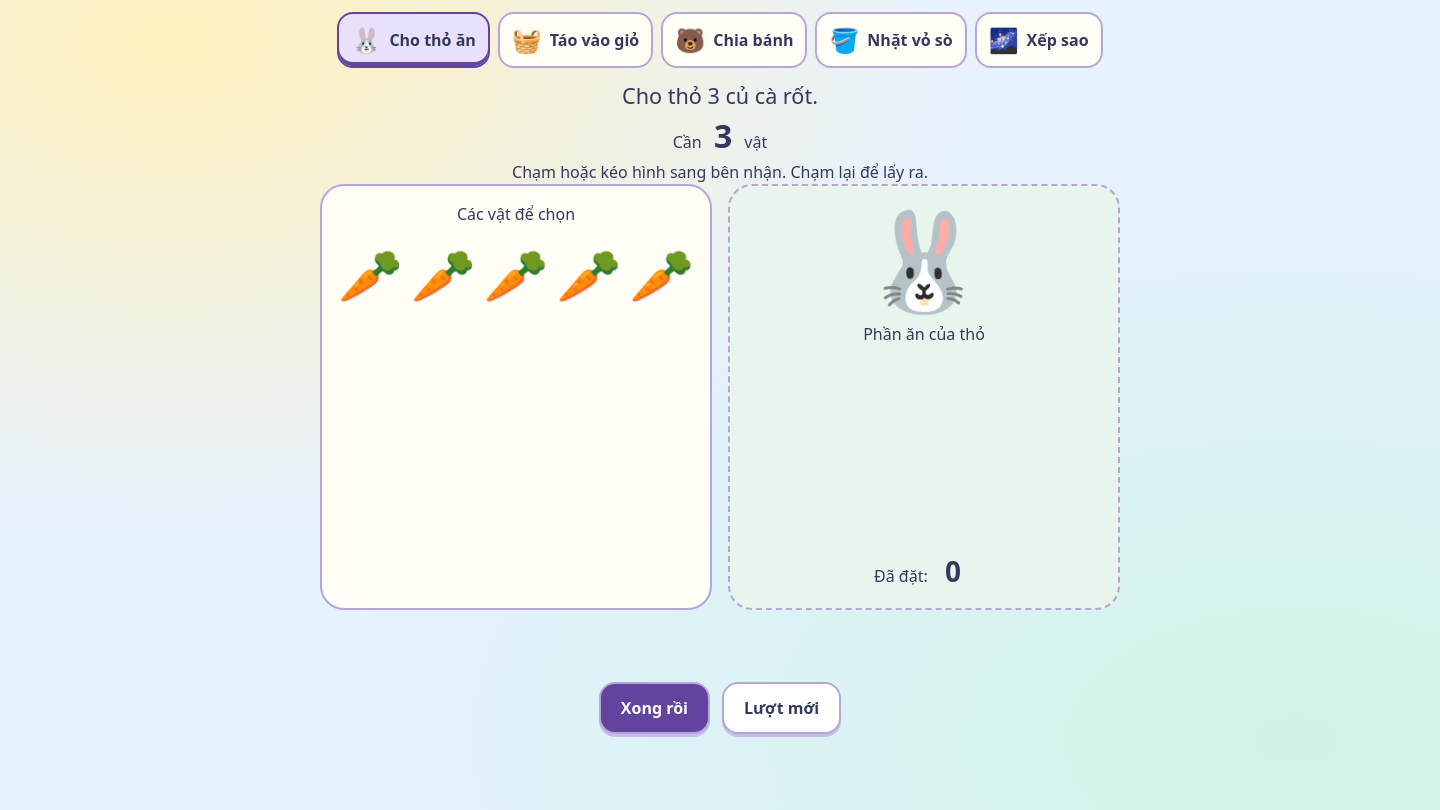
Test: keeps the completed scene until the child chooses to continue
What coordinates should you click on to do the following:
click the button named "Đặt vào: Cà rốt 1"
I would click on:
 (370, 274)
Its box is left=338, top=238, right=403, bottom=310.
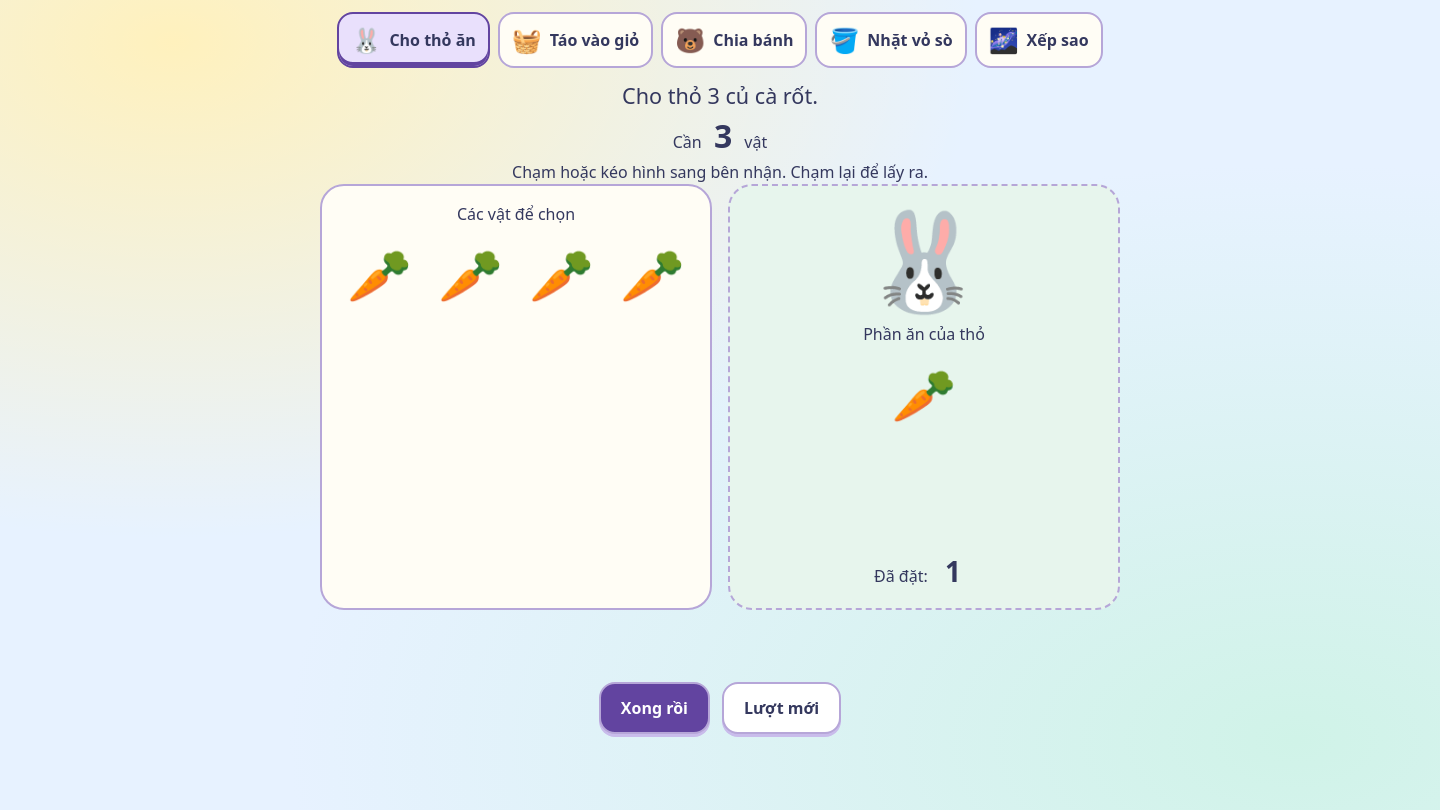
What coordinates should you click on to do the following:
click the 1st button "🥕"
I would click on:
 (380, 274)
Its box is left=338, top=238, right=421, bottom=310.
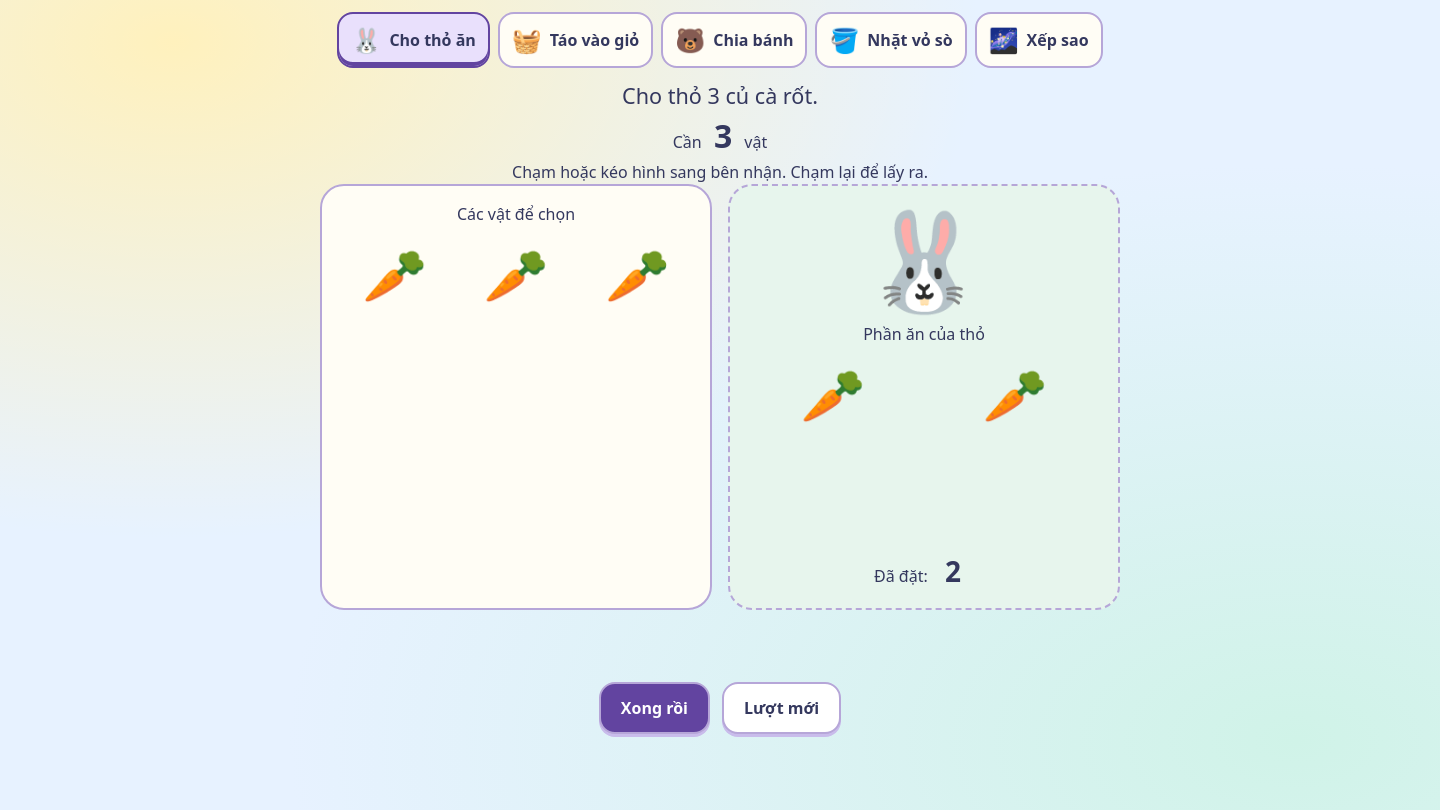
What coordinates should you click on to do the following:
click the 1st button "🥕"
I would click on:
 (395, 274)
Its box is left=338, top=238, right=451, bottom=310.
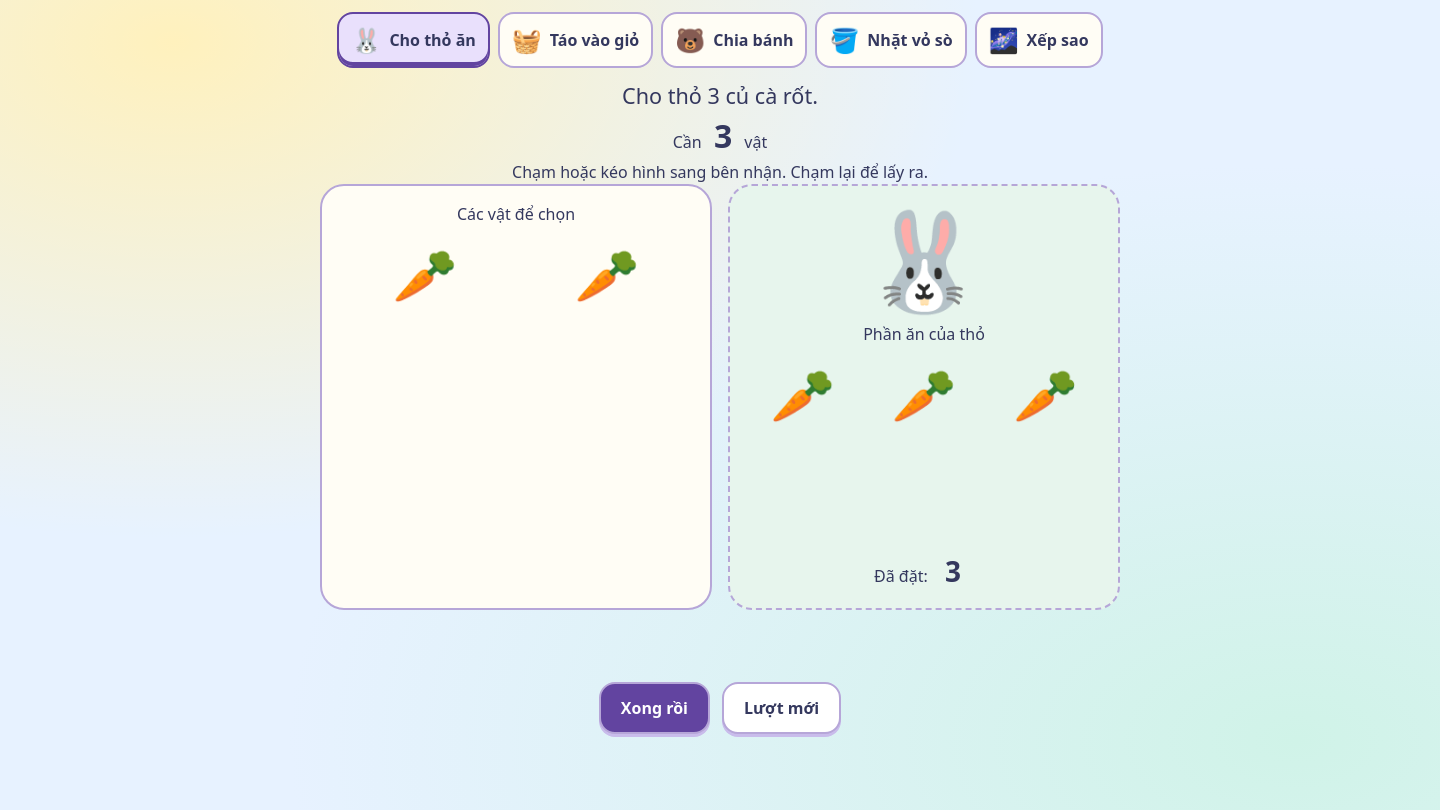
What coordinates should you click on to do the following:
click the button "Xong rồi"
I would click on:
 (654, 708)
Its box is left=599, top=682, right=710, bottom=734.
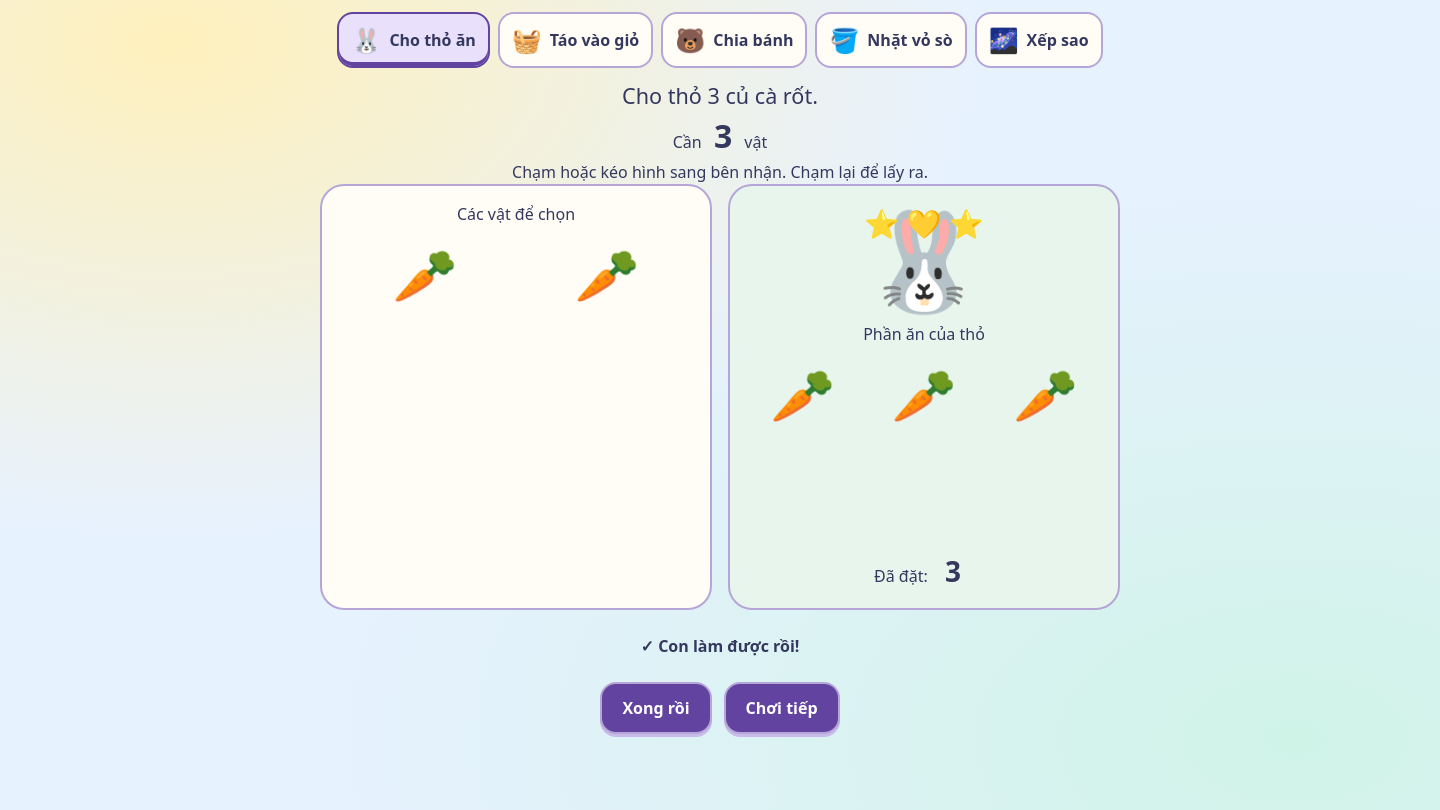
Expected: the button named "Lấy ra: Cà rốt 1" is disabled, left=746, top=358, right=859, bottom=430
Expected: the message shows "Con làm được rồi!", left=641, top=635, right=800, bottom=657
What coordinates should you click on to do the following:
click the button "Chơi tiếp"
I would click on:
 (782, 708)
Its box is left=724, top=682, right=840, bottom=734.
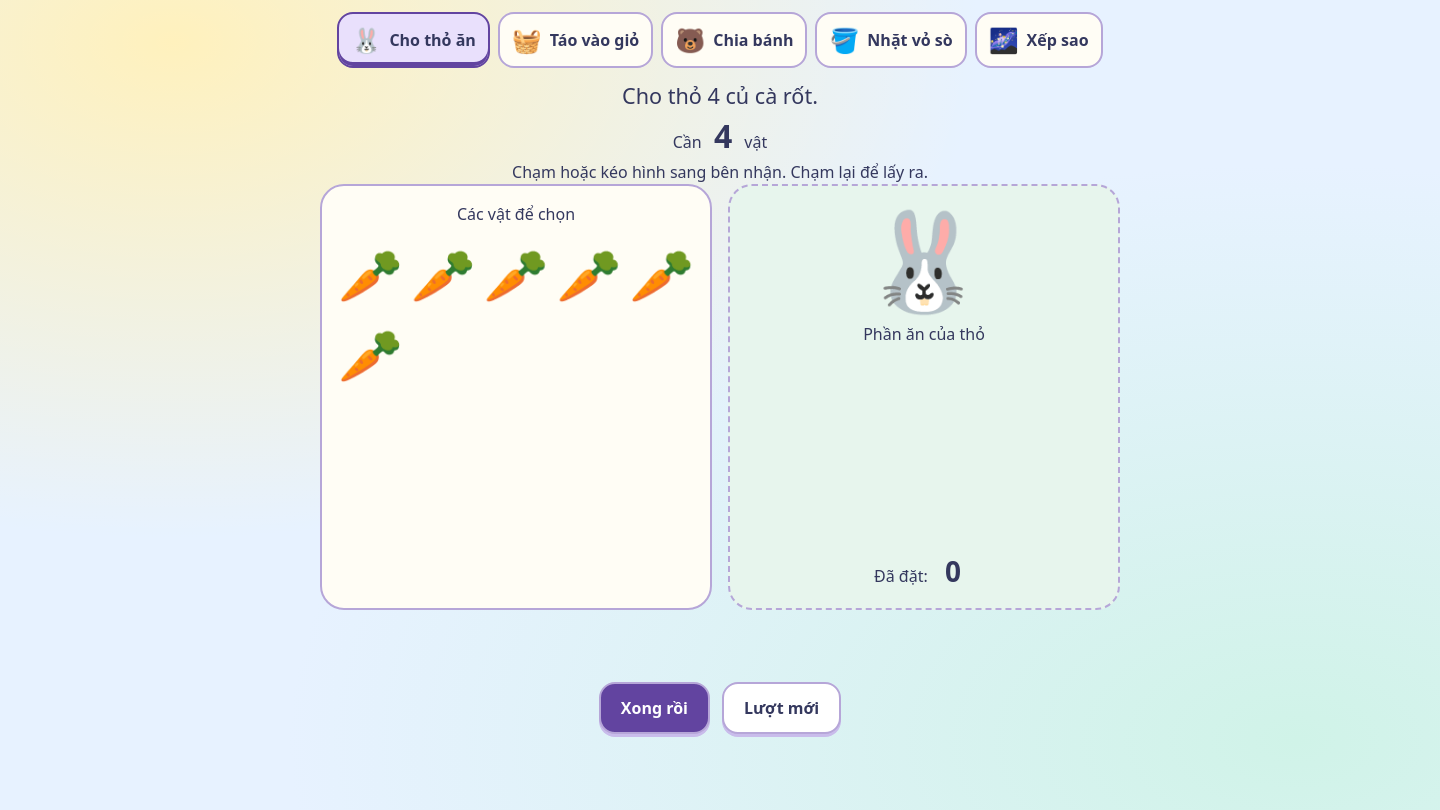
Expected: the message is empty, left=320, top=622, right=1120, bottom=670
Expected: the element named "Số vật đã đặt" reads "Đã đặt: 0", left=874, top=552, right=961, bottom=590
Expected: the heading "Cho thỏ 4 củ cà rốt." is shown, left=622, top=81, right=818, bottom=110
